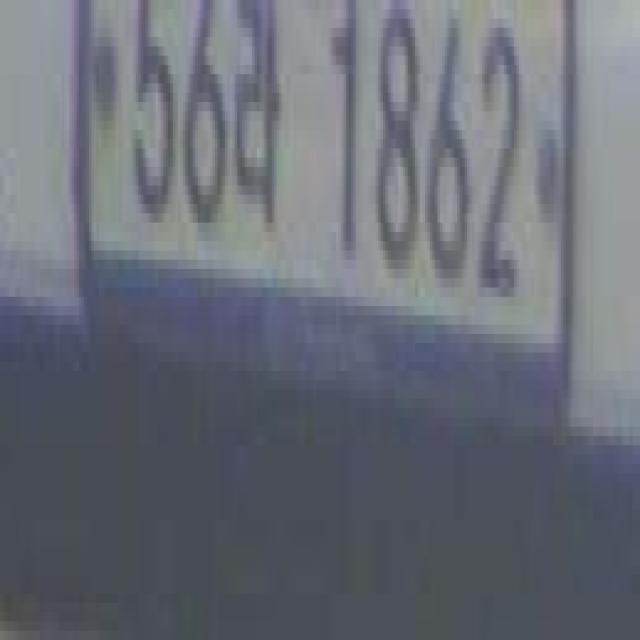illegal_plate: (79, 1, 580, 404)
